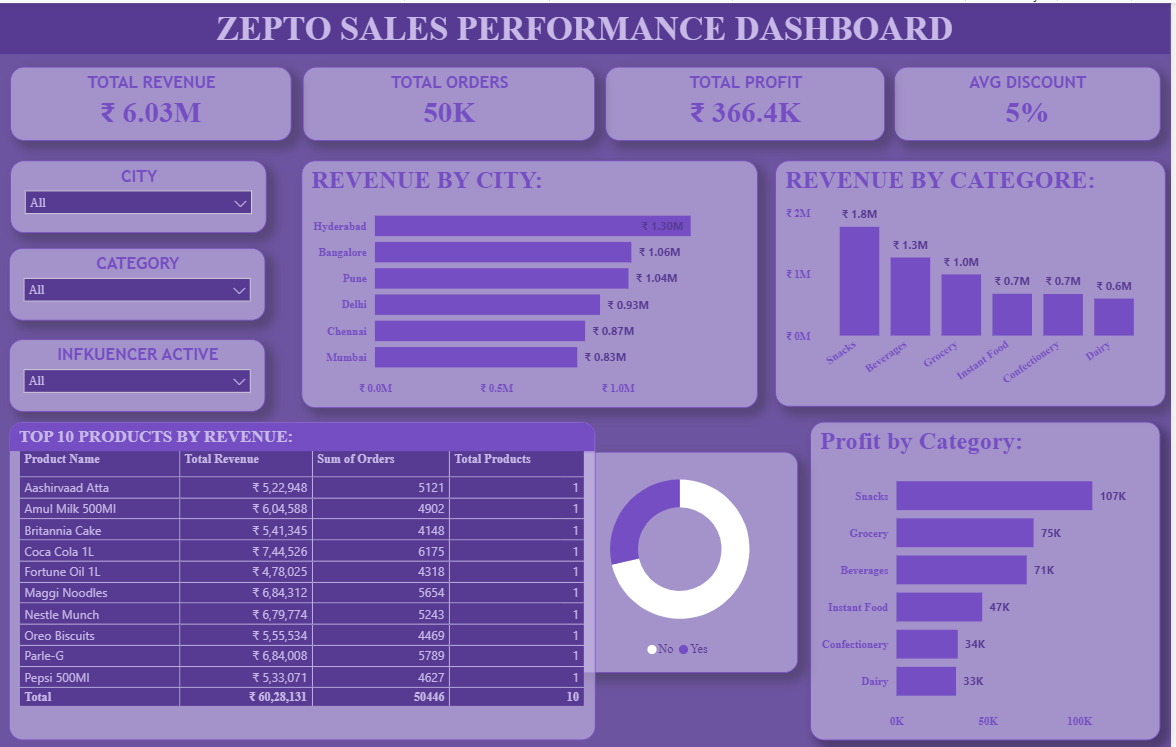

This screenshot's page, from the dashboard's own definition file:
{"tool":"powerbi","page":{"name":"Page 1","canvas":[1280,815],"ordinal":0},"visuals":[{"type":"card","title":"AVG DISCOUNT","fields":{"Values":["zepto_sales_dataset.Avg Discount"]},"box":[977.8,69.6,290.9,80.6],"z":0},{"type":"barChart","title":" Profit by Category:","fields":{"Category":["zepto_sales_dataset.Category"],"Y":["Sum(zepto_sales_dataset.Profit)"]},"box":[886.3,457.5,382.4,348.2],"z":1000},{"type":"card","title":"TOTAL PROFIT","fields":{"Values":["Sum(zepto_sales_dataset.Profit)"]},"box":[662.3,69.6,305.9,80.6],"z":2000},{"type":"card","title":"TOTAL ORDERS","fields":{"Values":["zepto_sales_dataset.Total Orders"]},"box":[331.8,69.6,319.6,80.6],"z":3000},{"type":"card","title":"TOTAL REVENUE","fields":{"Values":["zepto_sales_dataset.Total Revenue"]},"box":[12.3,69.6,307.3,80.6],"z":4000},{"type":"clusteredColumnChart","title":"REVENUE BY CATEGORE:","fields":{"Category":["zepto_sales_dataset.Category"],"Y":["zepto_sales_dataset.Total Revenue"]},"box":[848.1,172.1,426.1,269],"z":5000},{"type":"clusteredBarChart","title":"REVENUE BY CITY:","fields":{"Category":["zepto_sales_dataset.City"],"Y":["zepto_sales_dataset.Total Revenue"]},"box":[330,171.4,498.6,270],"z":6000},{"type":"donutChart","title":"REVENUE BY CATEGORE","fields":{"Category":["zepto_sales_dataset.Influencer Active"],"Y":["zepto_sales_dataset.Total Revenue"]},"box":[614.5,490.3,258.1,241.7],"z":7000},{"type":"slicer","title":"CITY","fields":{"Values":["zepto_sales_dataset.City"]},"box":[12.3,172.1,280,79.2],"z":8000},{"type":"slicer","title":"CATEGORY","fields":{"Values":["zepto_sales_dataset.Category"]},"box":[10.9,267.7,280,79.2],"z":9000},{"type":"slicer","title":"INFKUENCER ACTIVE","fields":{"Values":["zepto_sales_dataset.Influencer Active"]},"box":[10.9,367.4,280,79.2],"z":10000},{"type":"tableEx","title":"TOP 10 PRODUCTS BY REVENUE:","fields":{"Values":["zepto_sales_dataset.Product Name","zepto_sales_dataset.Total Revenue","Sum(zepto_sales_dataset.Orders)","zepto_sales_dataset.Total Products"]},"box":[10.9,457.5,640.5,348.2],"z":11000},{"type":"textbox","box":[0,1.4,1279.6,54.6],"z":12000}]}

Visuals, with their boxes in screenshot pixels (x1, y1, x2, y2), scaled from the page's 1280x815 canvas onto the 1176x747 screenshot:
"AVG DISCOUNT" card: locate(898, 64, 1166, 138)
" Profit by Category:" barChart: locate(814, 419, 1166, 738)
"TOTAL PROFIT" card: locate(608, 64, 890, 138)
"TOTAL ORDERS" card: locate(305, 64, 598, 138)
"TOTAL REVENUE" card: locate(11, 64, 294, 138)
"REVENUE BY CATEGORE:" clusteredColumnChart: locate(779, 158, 1171, 404)
"REVENUE BY CITY:" clusteredBarChart: locate(303, 157, 761, 405)
"REVENUE BY CATEGORE" donutChart: locate(565, 449, 802, 671)
"CITY" slicer: locate(11, 158, 269, 230)
"CATEGORY" slicer: locate(10, 245, 267, 318)
"INFKUENCER ACTIVE" slicer: locate(10, 337, 267, 409)
"TOP 10 PRODUCTS BY REVENUE:" tableEx: locate(10, 419, 598, 738)
textbox: locate(0, 1, 1175, 51)
